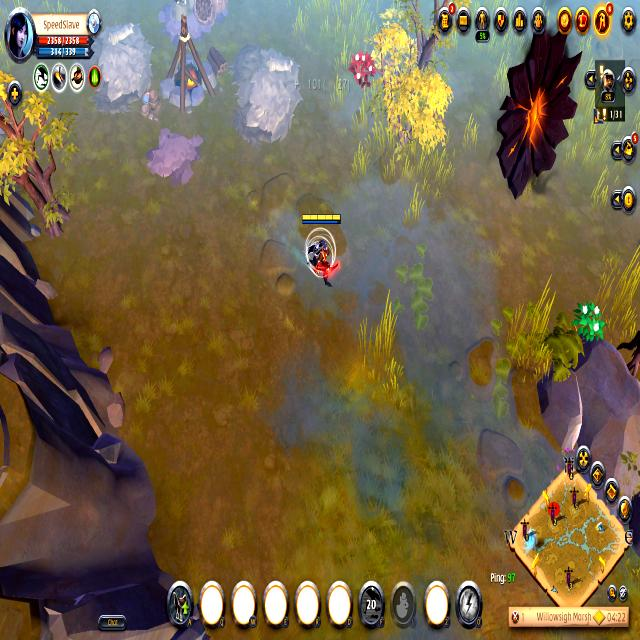hide: (570, 292, 608, 356), (345, 45, 379, 92)
red: (300, 208, 347, 299)
